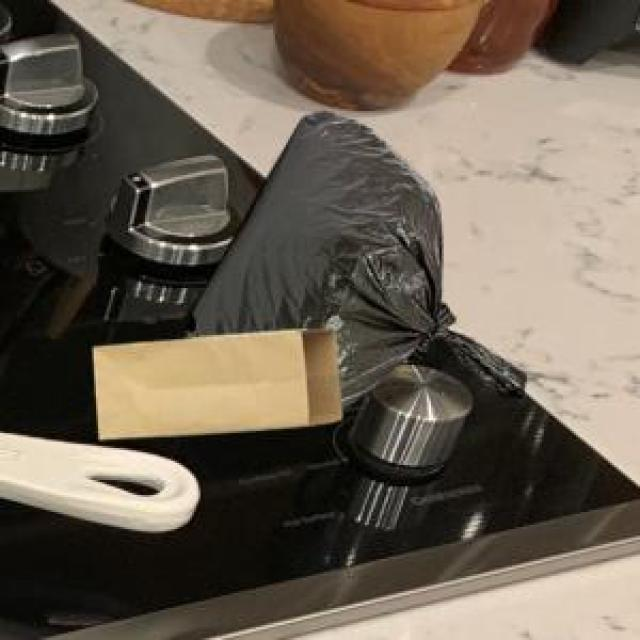miscellaneous trash: (179, 107, 523, 405)
paper: (91, 326, 337, 435)
